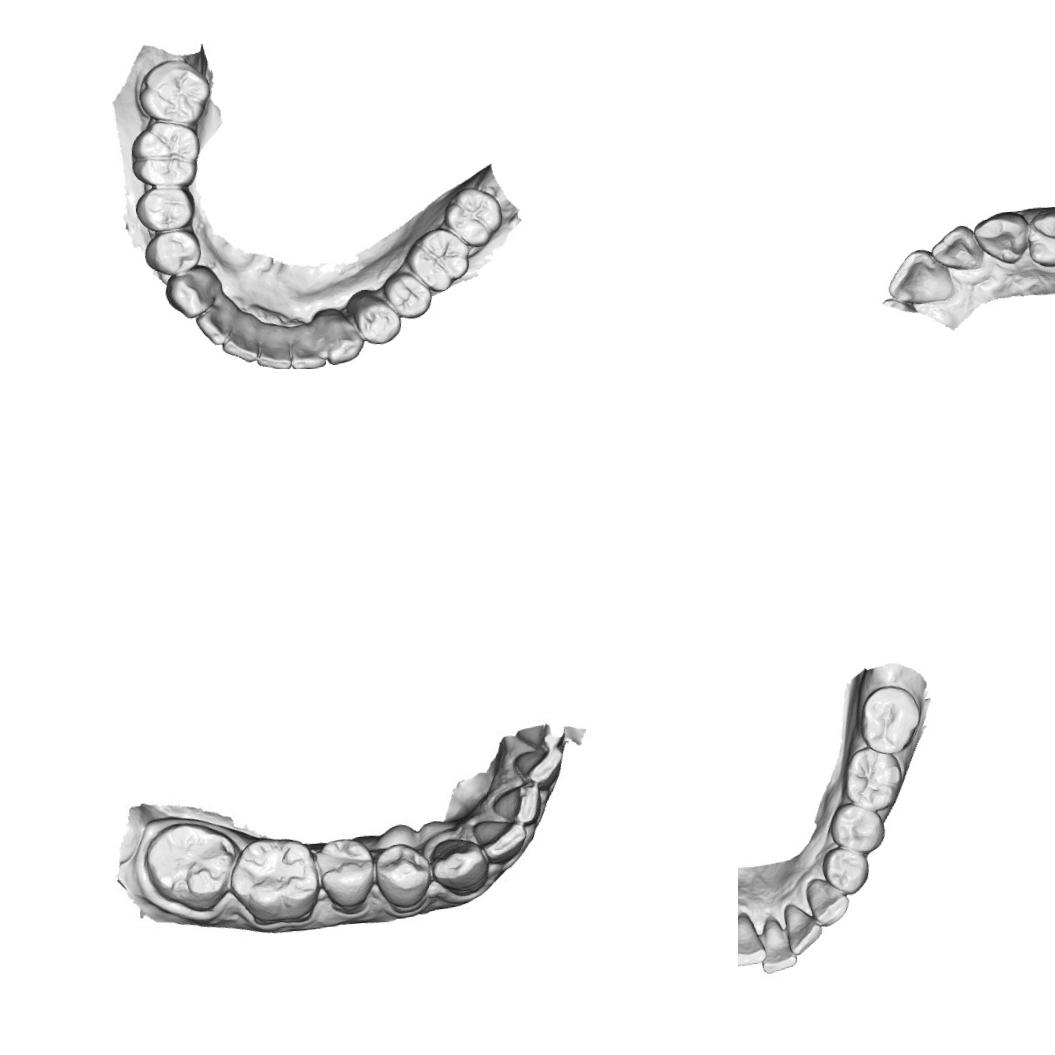canine: (426, 834, 490, 895), (970, 208, 1033, 268), (161, 264, 218, 321), (318, 310, 367, 366), (803, 874, 853, 928)
incisor: (882, 244, 957, 307), (926, 222, 984, 274), (474, 814, 527, 862), (780, 899, 824, 956), (217, 312, 262, 366), (758, 916, 798, 976), (194, 292, 232, 348), (252, 323, 293, 369), (287, 324, 327, 369), (738, 909, 768, 968), (498, 784, 538, 824)
molar: (222, 829, 324, 926), (142, 810, 236, 915), (134, 54, 214, 132), (126, 116, 204, 192), (401, 223, 474, 297), (854, 681, 924, 757), (839, 743, 906, 814), (440, 182, 506, 250)
premolar: (310, 834, 382, 918), (825, 798, 887, 856), (140, 226, 204, 279), (378, 839, 429, 905), (132, 182, 196, 232), (350, 288, 404, 346), (378, 267, 434, 322), (819, 844, 872, 898), (1023, 202, 1055, 270)
